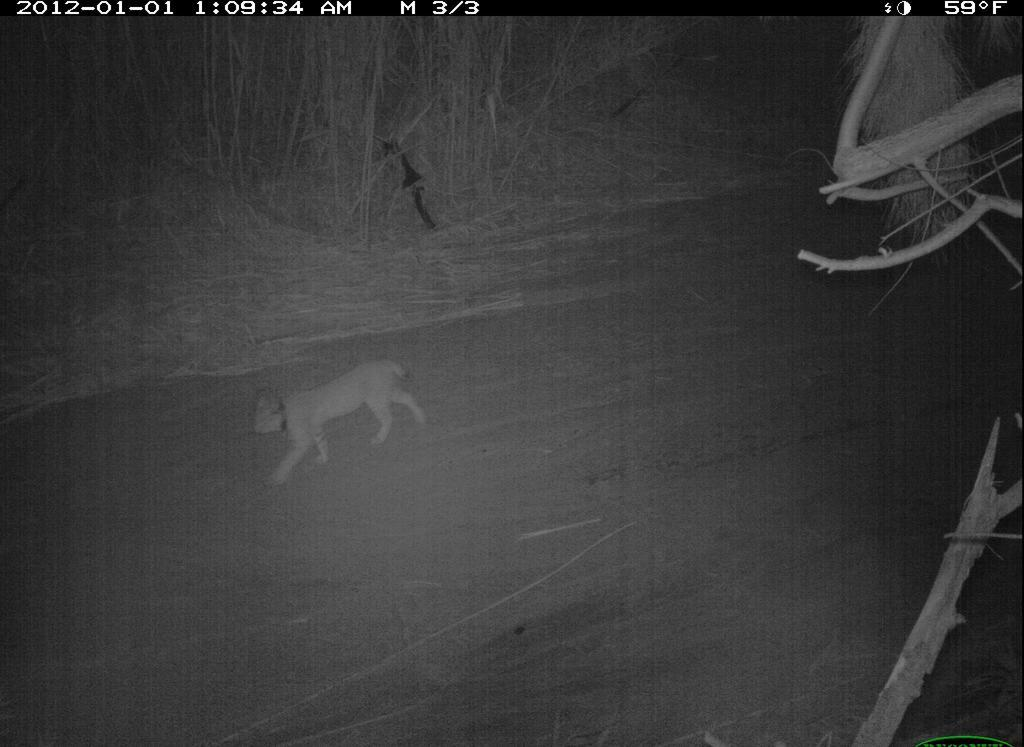bobcat: (230, 351, 449, 492)
